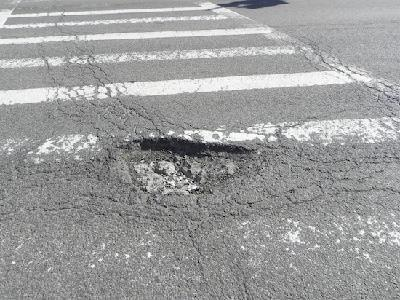pothole: (88, 134, 266, 200)
